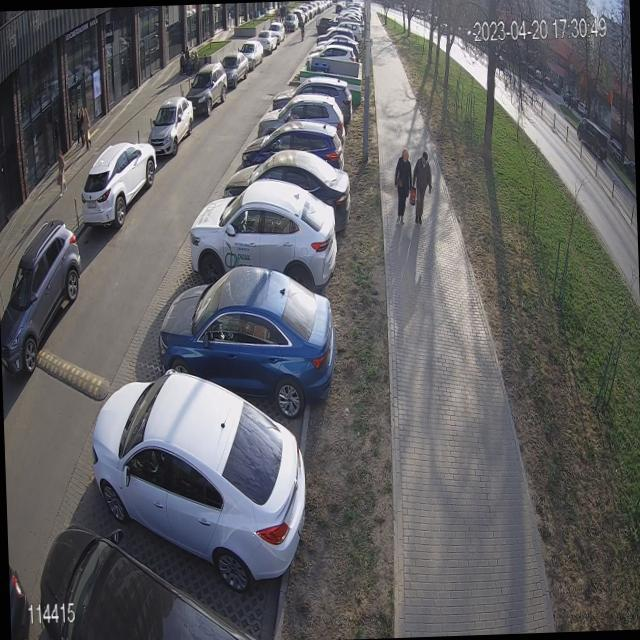person: (392, 147, 413, 225), (412, 150, 432, 223)
